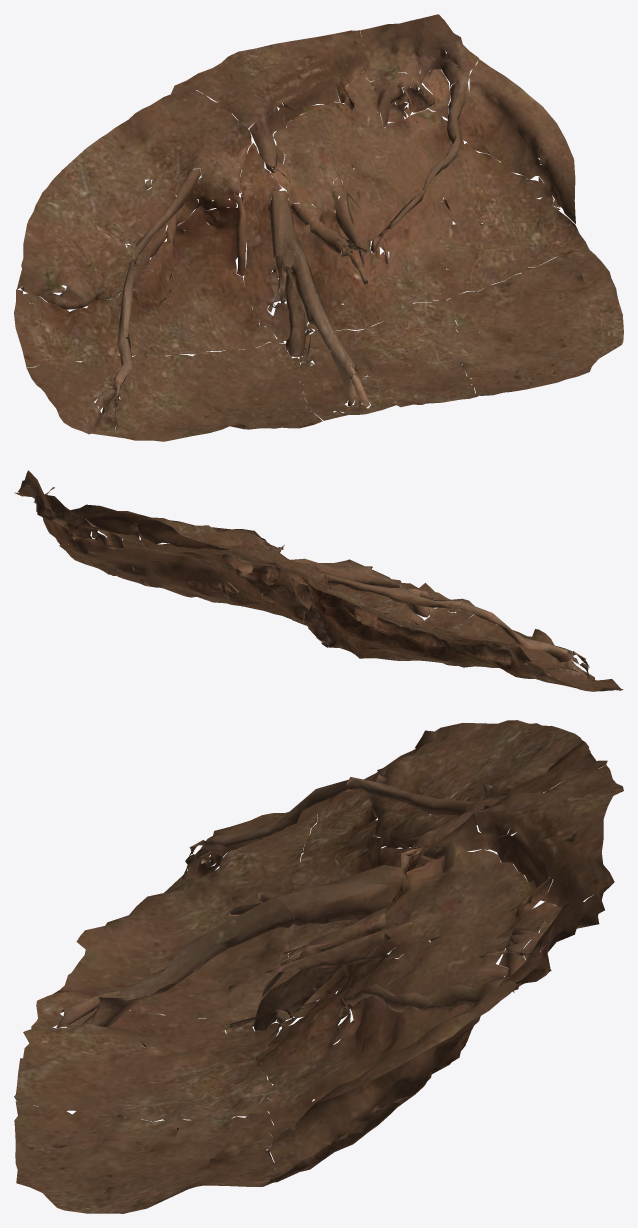
The model's file is root_cluster_01.glb.
The picture shows the model from 3 angles, top to bottom: view 1: azimuth 30°, elevation 25°; view 2: azimuth 150°, elevation 25°; view 3: azimuth 270°, elevation 25°; orthographic projection. The views are drawn at different scales.
Parts seen in each view (by area): view 1: root_cluster_01; view 2: root_cluster_01; view 3: root_cluster_01.
Boxes of the visible parts, x1=… form: root_cluster_01: x1=14, y1=14, x2=623, y2=441; root_cluster_01: x1=14, y1=470, x2=623, y2=691; root_cluster_01: x1=14, y1=720, x2=623, y2=1213.
Size of the model in its own units: 4.12 by 1.51 by 2.68.
Materials: 1 (1 with a texture image).
